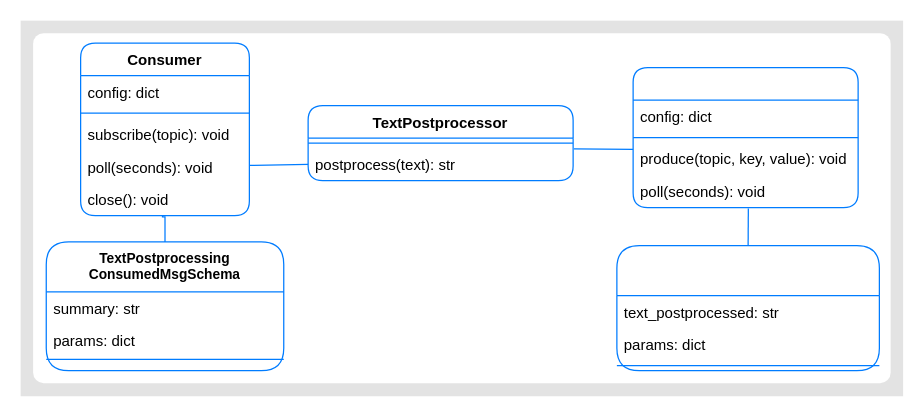
Image size: 924x416. Some labels were removed from this diagram. The shapes that lost their labels are listed below. From the top down, each one's box as (x1, y1, x2, y2) in pixels, then its label:
(632, 66, 858, 208): Producer
(616, 244, 879, 371): ReadyProduced ProducedMsgSchema
